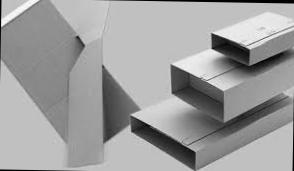cardboard: (114, 86, 294, 165), (151, 39, 294, 114), (198, 0, 294, 64)
